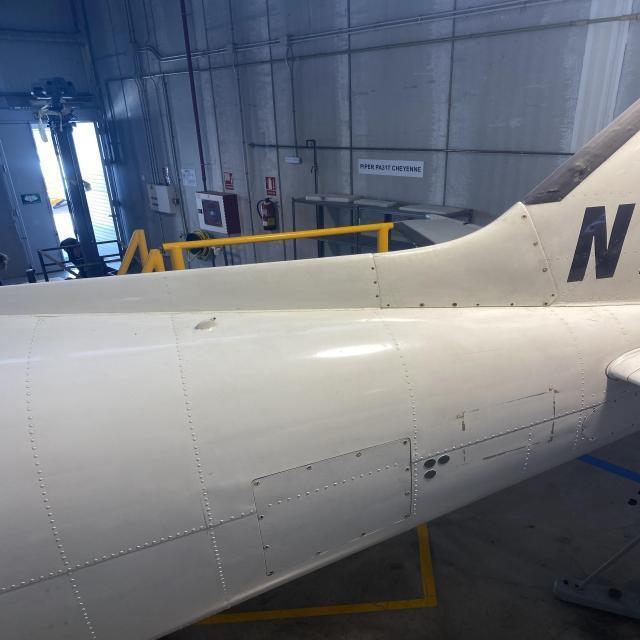Fastener Damage: (418, 302, 425, 308), (550, 293, 556, 298), (374, 294, 380, 298), (452, 302, 458, 306), (474, 302, 480, 306), (510, 302, 516, 306), (370, 266, 374, 270), (544, 301, 548, 305), (590, 437, 594, 440), (386, 304, 391, 306), (611, 432, 614, 434)
